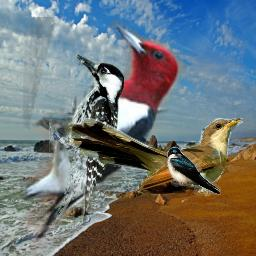Cuckoo: (68, 118, 243, 196)
Swallow: (167, 147, 221, 195)
Woodpecker: (8, 17, 193, 250), (49, 53, 124, 225)
